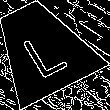L_NW: (14, 18, 70, 78)
